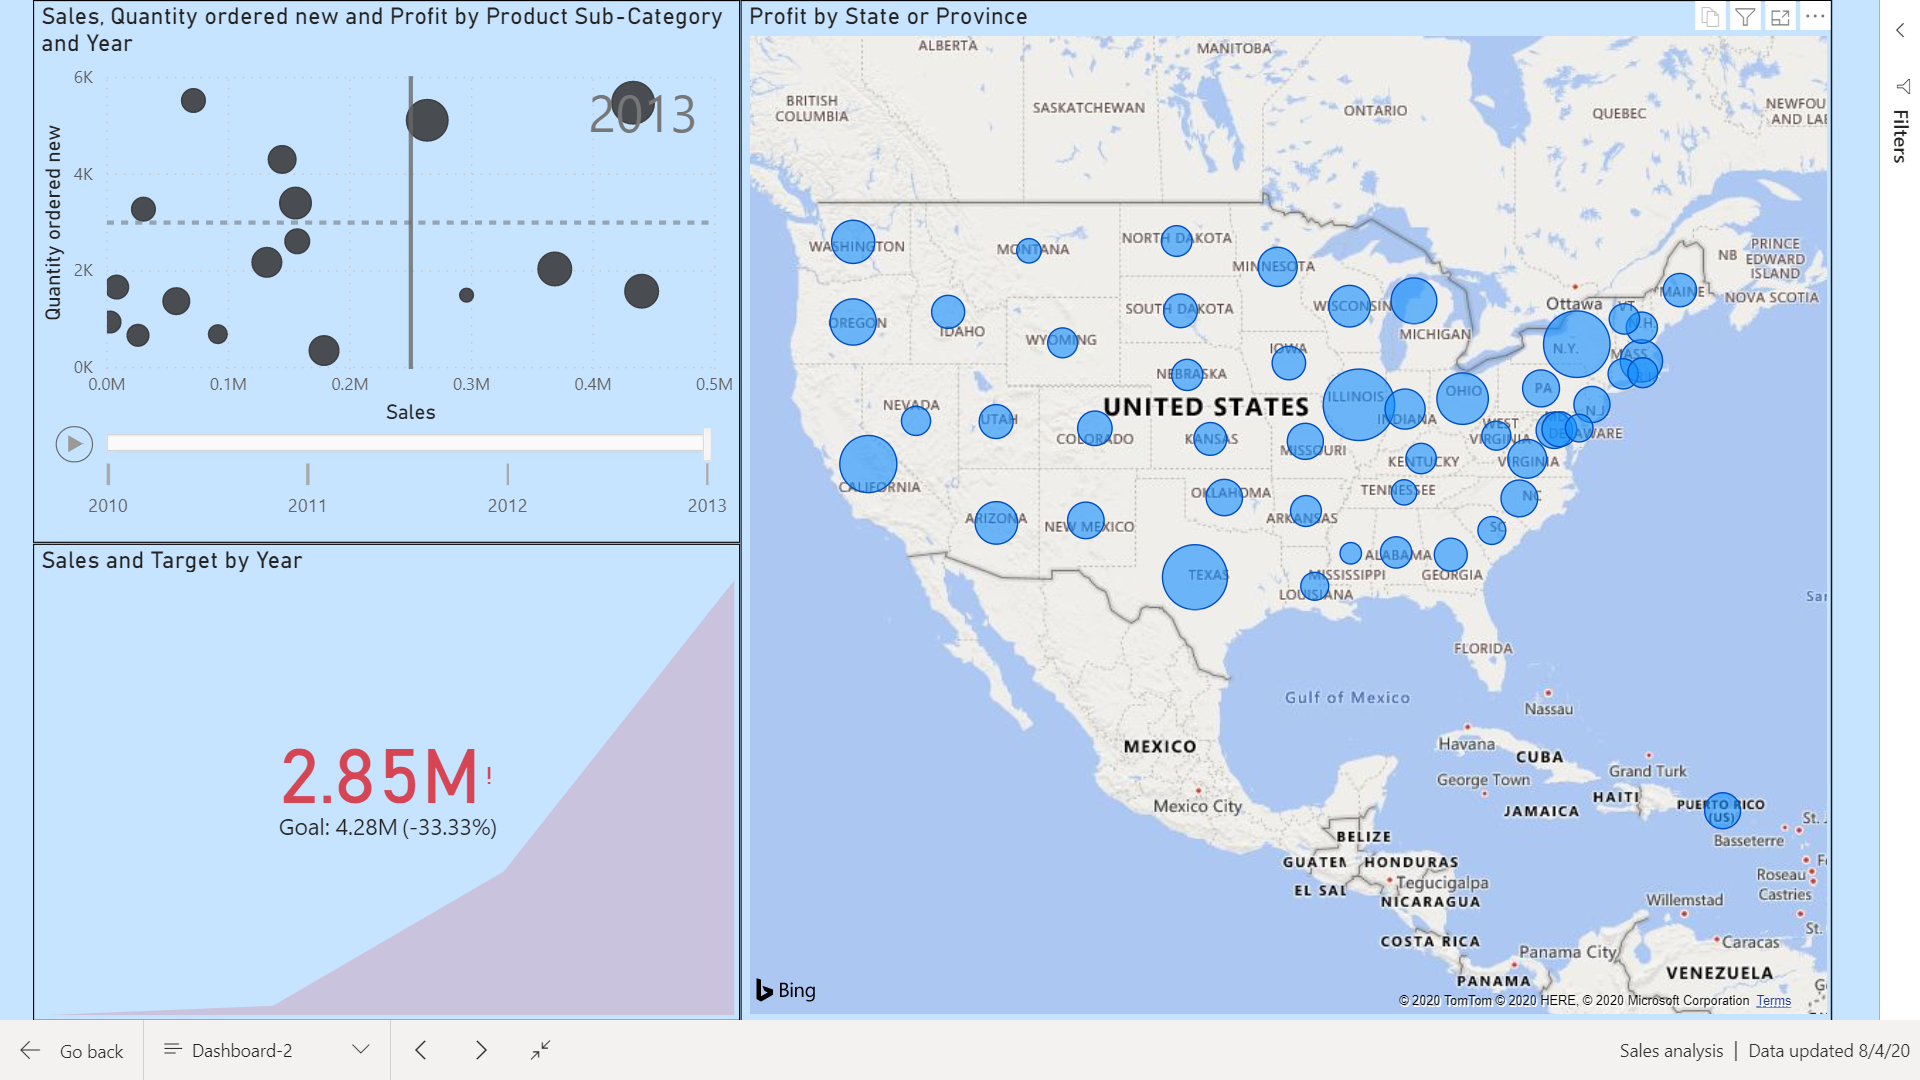

The dashboard page shown, as its layout file describes it:
{"tool":"powerbi","page":{"name":"Dashboard-2","canvas":[1280,720],"ordinal":1},"visuals":[{"type":"scatterChart","fields":{"X":["Sum(Orders.Sales)"],"Y":["Sum(Orders.Quantity ordered new)"],"Category":["Orders.Product Sub-Category"],"Size":["Sum(Orders.Profit)"],"Play":["Orders.Order Date.Variation.Date Hierarchy.Year"]},"box":[0,0,499.2,383.5],"z":0},{"type":"kpi","fields":{"Indicator":["Sum(Orders.Sales)"],"Goal":["Sum(Orders.Target)"],"TrendLine":["Orders.Order Date.Variation.Date Hierarchy.Year"]},"box":[0,383.5,499.2,337],"z":1000},{"type":"map","fields":{"Category":["Orders.State or Province"],"Size":["Sum(Orders.Profit)"]},"box":[499.2,0,770.8,720.5],"z":2000}]}

Visuals, with their boxes on the page's 1280x720 design canvas (x1, y1, x2, y2). These are canvas units, not pixel positions in the 1920x1080 screenshot, which may show the page scaled, cropped or inside an application window:
scatterChart - Sum(Orders.Sales) x Sum(Orders.Quantity ordered new): bbox(0, 0, 499, 384)
kpi - Sum(Orders.Sales) x Sum(Orders.Target): bbox(0, 384, 499, 720)
map - Orders.State or Province x Sum(Orders.Profit): bbox(499, 0, 1270, 720)
